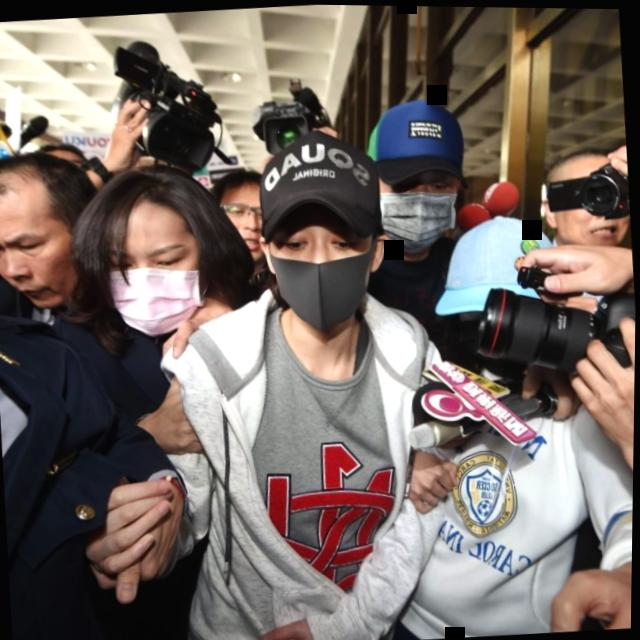Mask: (250, 123, 390, 343), (75, 161, 217, 353), (363, 86, 481, 260)
NO-Mask: (0, 144, 103, 315), (202, 159, 280, 265)
